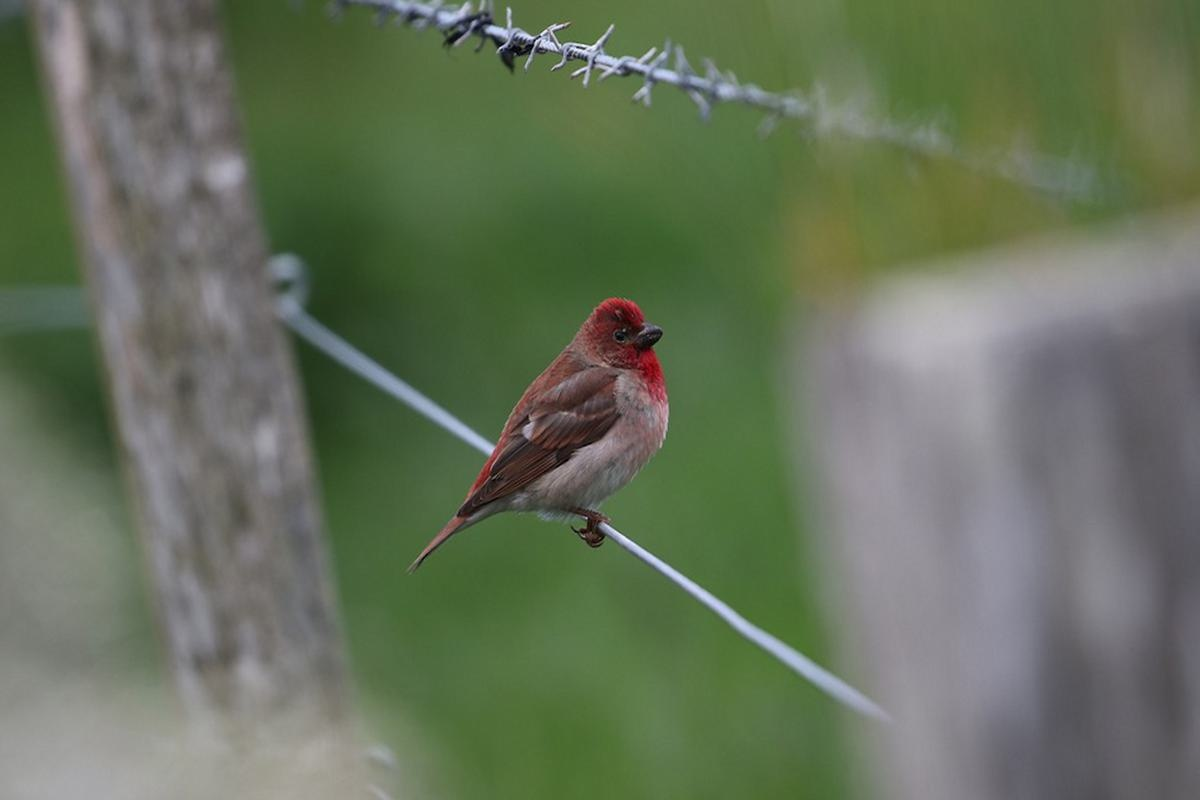rosefinch: (410, 292, 684, 552)
